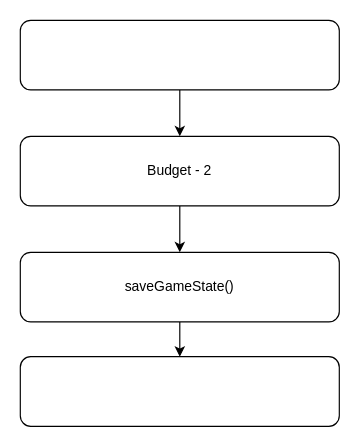
This 360x447 diagram has some shape labels left out. The shapes that lost their labels are listed below. From the top down, each one's centre as x and y in pixels, then its label:
At point (179, 54): "purchaseItem(bigMac)".
At point (179, 391): "AsyncStorage.setItem('@gameState', {...})".
